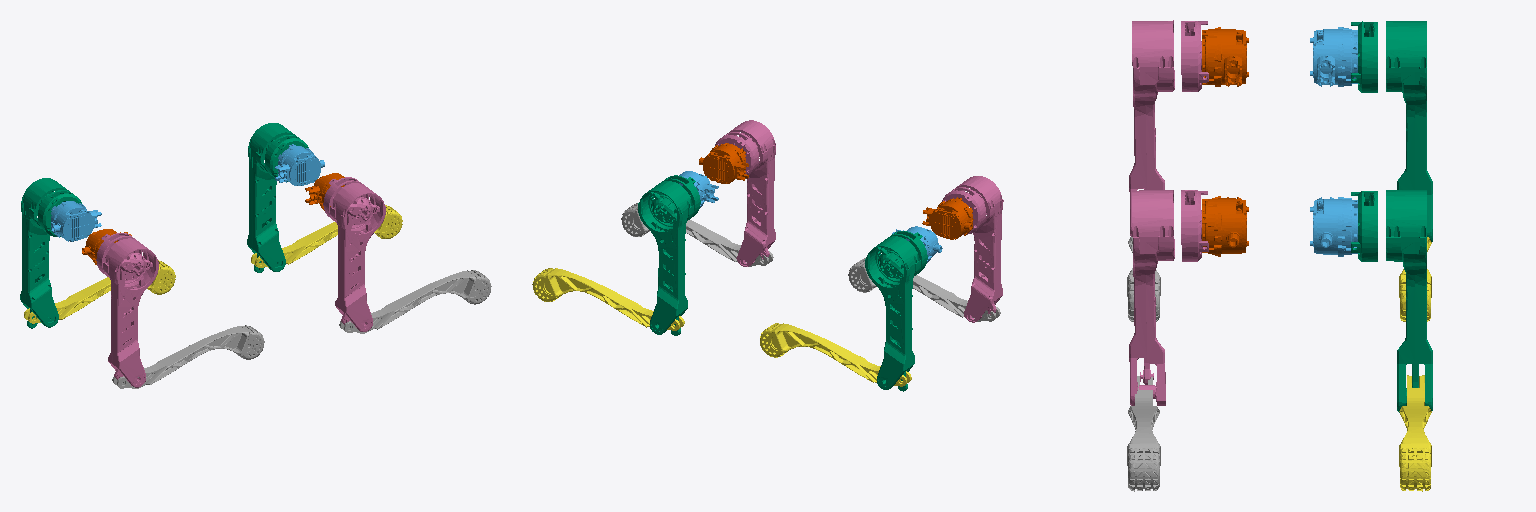
robot.urdf — bpx:
<?xml version='1.0' encoding='utf-8'?>
<robot name="bpx">
  <link name="torso">
    <inertial>
      <origin xyz="0.0008028 -4.574E-6 -0.004214" rpy="0 0 0" />
      <mass value="3.309" />
      <inertia ixx="0.005766" ixy="-1.985E-7" ixz="-7.242E-5" iyy="0.01547" iyz="-8.15E-8" izz="0.01647" />
    </inertial>
    <visual>
      <origin xyz="0 0 0" rpy="0 0 0" />
      <geometry>
        <mesh filename="../meshes/bpx_body.obj" />
      </geometry>
    </visual>
    <collision>
      <origin xyz="0 0 0" rpy="0 0 0"/>
      <geometry>
        <box size="0.36 0.16 0.15"/>
      </geometry>
    </collision>
    <collision>
      <origin xyz="0.285 0 0" rpy="0 0 0"/>
      <geometry>
        <box size="0.01 0.13 0.025"/>
      </geometry>
    </collision>
    <collision>
      <origin xyz="-0.285 0 0" rpy="0 0 0"/>
      <geometry>
        <box size="0.01 0.13 0.025"/>
      </geometry>
    </collision>
  </link>
  <link name="fl_hip_link">
    <inertial>
      <origin xyz="-0.06505 0 0" rpy="0 0 0" />
      <mass value="0.588" />
      <inertia ixx="9.195E-5" ixy="0" ixz="0" iyy="4.998E-5" iyz="0" izz="5.084E-5" />
    </inertial>
    <visual>
      <origin xyz="0 0 0" rpy="0 0 0" />
      <geometry>
        <mesh filename="../meshes/hip.obj" />
      </geometry>
    </visual>
  </link>
  <joint name="fl_hip_roll_joint" type="revolute">
    <origin xyz="0.2432 0.056 0" rpy="0 0 0" />
    <parent link="torso" />
    <child link="fl_hip_link" />
    <axis xyz="1 0 0" />
    <limit lower="-0.8727" upper="0.8727" effort="30" velocity="20" />
  </joint>
  <link name="fl_thigh_link">
    <inertial>
      <origin xyz="-0.006553 -0.02491 -0.06967" rpy="0 0 0" />
      <mass value="1.74" />
      <inertia ixx="0.001874" ixy="4.092E-6" ixz="-6.186E-5" iyy="0.002176" iyz="2.971E-5" izz="0.0003893" />
    </inertial>
    <visual>
      <origin xyz="0 0 0" rpy="0 0 0" />
      <geometry>
        <mesh filename="../meshes/l_thigh.obj" />
      </geometry>
    </visual>
    <collision>
      <origin xyz="0 -0.025 0" rpy="1.5708 0 0"/>
      <geometry>
        <cylinder length="0.08" radius="0.04"/>
      </geometry>
    </collision>
    <collision>
      <origin xyz="-0.02 0 -0.128" rpy="0 0 0"/>
      <geometry>
        <box size="0.04 0.022 0.15"/>
      </geometry>
    </collision>
  </link>
  <joint name="fl_hip_pitch_joint" type="revolute">
    <origin xyz="0 0.1089 0" rpy="0 0 0" />
    <parent link="fl_hip_link" />
    <child link="fl_thigh_link" />
    <axis xyz="0 1 0" />
    <limit lower="-0.7854" upper="2.6066" effort="30" velocity="20" />
  </joint>
  <link name="fl_calf_link">
    <inertial>
      <origin xyz="0.005945 0 -0.1404" rpy="0 0 0" />
      <mass value="0.294" />
      <inertia ixx="0.001489" ixy="0" ixz="0.0001047" iyy="0.001513" iyz="0" izz="6.363E-5" />
    </inertial>
    <visual>
      <origin xyz="0 0 0" rpy="0 0 0" />
      <geometry>
        <mesh filename="../meshes/calf.obj" />
      </geometry>
    </visual>
    <collision>
      <origin xyz="0.015 0 -0.11" rpy="0 -0.1396 0"/>
      <geometry>
        <box size="0.018 0.015 0.18"/>
      </geometry>
    </collision>
    <collision>
      <origin xyz="0.021 0 -0.22" rpy="0 0.1396 0"/>
      <geometry>
        <box size="0.025 0.02 0.05"/>
      </geometry>
    </collision>
  </link>
  <joint name="fl_knee_joint" type="revolute">
    <origin xyz="0 0 -0.23" rpy="0 0 0" />
    <parent link="fl_thigh_link" />
    <child link="fl_calf_link" />
    <axis xyz="0 1 0" />
    <limit lower="-2.7531" upper="-0.5539" effort="30" velocity="20" />
  </joint>
  <link name="fl_toe_link">
    <inertial>
      <origin xyz="0 0 0" rpy="0 0 0" />
      <mass value="0.005" />
      <inertia ixx="0" ixy="0" ixz="0" iyy="0" iyz="0" izz="0" />
    </inertial>
    <collision>
      <origin xyz="0 0 0" rpy="1.5708 0 0" />
      <geometry>
        <cylinder length="0.03" radius="0.027"/>
      </geometry>
    </collision>
  </link>
  <joint name="fl_ankle_joint" type="fixed" dont_collapse="true">
    <origin xyz="0 0 -0.2427" rpy="0 0 0" />
    <parent link="fl_calf_link" />
    <child link="fl_toe_link" />
  </joint>
  <link name="fr_hip_link">
    <inertial>
      <origin xyz="-0.06505 0 0" rpy="0 0 0" />
      <mass value="0.588" />
      <inertia ixx="9.195E-5" ixy="0" ixz="0" iyy="4.998E-5" iyz="0" izz="5.084E-5" />
    </inertial>
    <visual>
      <origin xyz="0 0 0" rpy="3.1416 0 0" />
      <geometry>
        <mesh filename="../meshes/hip.obj" />
      </geometry>
    </visual>
  </link>
  <joint name="fr_hip_roll_joint" type="revolute">
    <origin xyz="0.2432 -0.056 0" rpy="0 0 0" />
    <parent link="torso" />
    <child link="fr_hip_link" />
    <axis xyz="1 0 0" />
    <limit lower="-0.8727" upper="0.8727" effort="30" velocity="20" />
  </joint>
  <link name="fr_thigh_link">
    <inertial>
      <origin xyz="-0.006553 0.02491 -0.06967" rpy="0 0 0" />
      <mass value="1.74" />
      <inertia ixx="0.001874" ixy="-4.092E-6" ixz="-6.186E-5" iyy="0.002176" iyz="-2.971E-5" izz="0.0003893" />
    </inertial>
    <visual>
      <origin xyz="0 0 0" rpy="0 0 0" />
      <geometry>
        <mesh filename="../meshes/r_thigh.obj" />
      </geometry>
    </visual>
    <collision>
      <origin xyz="0 0.025 0" rpy="1.5708 0 0"/>
      <geometry>
        <cylinder length="0.08" radius="0.04"/>
      </geometry>
    </collision>
    <collision>
      <origin xyz="-0.02 0 -0.128" rpy="0 0 0"/>
      <geometry>
        <box size="0.04 0.022 0.15"/>
      </geometry>
    </collision>
  </link>
  <joint name="fr_hip_pitch_joint" type="revolute">
    <origin xyz="0 -0.1089 0" rpy="0 0 0" />
    <parent link="fr_hip_link" />
    <child link="fr_thigh_link" />
    <axis xyz="0 1 0" />
    <limit lower="-0.7854" upper="2.6066" effort="30" velocity="20" />
  </joint>
  <link name="fr_calf_link">
    <inertial>
      <origin xyz="0.005945 0 -0.1404" rpy="0 0 0" />
      <mass value="0.294" />
      <inertia ixx="0.001489" ixy="0" ixz="0.0001047" iyy="0.001513" iyz="0" izz="6.363E-5" />
    </inertial>
    <visual>
      <origin xyz="0 0 0" rpy="0 0 0" />
      <geometry>
        <mesh filename="../meshes/calf.obj" />
      </geometry>
    </visual>
    <collision>
      <origin xyz="0.015 0 -0.11" rpy="0 -0.1396 0"/>
      <geometry>
        <box size="0.018 0.015 0.18"/>
      </geometry>
    </collision>
    <collision>
      <origin xyz="0.021 0 -0.22" rpy="0 0.1396 0"/>
      <geometry>
        <box size="0.025 0.02 0.05"/>
      </geometry>
    </collision>
  </link>
  <joint name="fr_knee_joint" type="revolute">
    <origin xyz="0 0 -0.23" rpy="0 0 0" />
    <parent link="fr_thigh_link" />
    <child link="fr_calf_link" />
    <axis xyz="0 1 0" />
    <limit lower="-2.7531" upper="-0.5539" effort="30" velocity="20" />
  </joint>
  <link name="fr_toe_link">
    <inertial>
      <origin xyz="0 0 0" rpy="0 0 0" />
      <mass value="0.005" />
      <inertia ixx="0" ixy="0" ixz="0" iyy="0" iyz="0" izz="0" />
    </inertial>
    <collision>
      <origin xyz="0 0 0" rpy="1.5708 0 0" />
      <geometry>
        <cylinder length="0.03" radius="0.027"/>
      </geometry>
    </collision>
  </link>
  <joint name="fr_ankle_joint" type="fixed" dont_collapse="true">
    <origin xyz="0 0 -0.2427" rpy="0 0 0" />
    <parent link="fr_calf_link" />
    <child link="fr_toe_link" />
  </joint>
  <link name="hl_hip_link">
    <inertial>
      <origin xyz="0.06505 0 0" rpy="0 0 0" />
      <mass value="0.588" />
      <inertia ixx="9.195E-5" ixy="0" ixz="0" iyy="4.998E-5" iyz="0" izz="5.084E-5" />
    </inertial>
    <visual>
      <origin xyz="0 0 0" rpy="3.1416 0 3.1416" />
      <geometry>
        <mesh filename="../meshes/hip.obj" />
      </geometry>
    </visual>
  </link>
  <joint name="hl_hip_roll_joint" type="revolute">
    <origin xyz="-0.2432 0.056 0" rpy="0 0 0" />
    <parent link="torso" />
    <child link="hl_hip_link" />
    <axis xyz="1 0 0" />
    <limit lower="-0.8727" upper="0.8727" effort="30" velocity="20" />
  </joint>
  <link name="hl_thigh_link">
    <inertial>
      <origin xyz="-0.006553 -0.02491 -0.06967" rpy="0 0 0" />
      <mass value="1.74" />
      <inertia ixx="0.001874" ixy="4.092E-6" ixz="-6.186E-5" iyy="0.002176" iyz="2.971E-5" izz="0.0003893" />
    </inertial>
    <visual>
      <origin xyz="0 0 0" rpy="0 0 0" />
      <geometry>
        <mesh filename="../meshes/l_thigh.obj" />
      </geometry>
    </visual>
    <collision>
      <origin xyz="0 -0.025 0" rpy="1.5708 0 0"/>
      <geometry>
        <cylinder length="0.08" radius="0.04"/>
      </geometry>
    </collision>
    <collision>
      <origin xyz="-0.02 0 -0.128" rpy="0 0 0"/>
      <geometry>
        <box size="0.04 0.022 0.15"/>
      </geometry>
    </collision>
  </link>
  <joint name="hl_hip_pitch_joint" type="revolute">
    <origin xyz="0 0.1089 0" rpy="0 0 0" />
    <parent link="hl_hip_link" />
    <child link="hl_thigh_link" />
    <axis xyz="0 1 0" />
    <limit lower="-0.7854" upper="2.6066" effort="30" velocity="20" />
  </joint>
  <link name="hl_calf_link">
    <inertial>
      <origin xyz="0.005945 0 -0.1404" rpy="0 0 0" />
      <mass value="0.294" />
      <inertia ixx="0.001489" ixy="0" ixz="0.0001047" iyy="0.001513" iyz="0" izz="6.363E-5" />
    </inertial>
    <visual>
      <origin xyz="0 0 0" rpy="0 0 0" />
      <geometry>
        <mesh filename="../meshes/calf.obj" />
      </geometry>
    </visual>
    <collision>
      <origin xyz="0.015 0 -0.11" rpy="0 -0.1396 0"/>
      <geometry>
        <box size="0.018 0.015 0.18"/>
      </geometry>
    </collision>
    <collision>
      <origin xyz="0.021 0 -0.22" rpy="0 0.1396 0"/>
      <geometry>
        <box size="0.025 0.02 0.05"/>
      </geometry>
    </collision>
  </link>
  <joint name="hl_knee_joint" type="revolute">
    <origin xyz="0 0 -0.23" rpy="0 0 0" />
    <parent link="hl_thigh_link" />
    <child link="hl_calf_link" />
    <axis xyz="0 1 0" />
    <limit lower="-2.7531" upper="-0.5539" effort="30" velocity="20" />
  </joint>
  <link name="hl_toe_link">
    <inertial>
      <origin xyz="0 0 0" rpy="0 0 0" />
      <mass value="0.005" />
      <inertia ixx="0" ixy="0" ixz="0" iyy="0" iyz="0" izz="0" />
    </inertial>
    <collision>
      <origin xyz="0 0 0" rpy="1.5708 0 0" />
      <geometry>
        <cylinder length="0.03" radius="0.027"/>
      </geometry>
    </collision>
  </link>
  <joint name="hl_ankle_joint" type="fixed" dont_collapse="true">
    <origin xyz="0 0 -0.2427" rpy="0 0 0" />
    <parent link="hl_calf_link" />
    <child link="hl_toe_link" />
  </joint>
  <link name="hr_hip_link">
    <inertial>
      <origin xyz="0.06505 0 0" rpy="0 0 0" />
      <mass value="0.588" />
      <inertia ixx="9.195E-5" ixy="0" ixz="0" iyy="4.998E-5" iyz="0" izz="5.084E-5" />
    </inertial>
    <visual>
      <origin xyz="0 0 0" rpy="0 0 3.1416" />
      <geometry>
        <mesh filename="../meshes/hip.obj" />
      </geometry>
    </visual>
  </link>
  <joint name="hr_hip_roll_joint" type="revolute">
    <origin xyz="-0.2432 -0.056 0" rpy="0 0 0" />
    <parent link="torso" />
    <child link="hr_hip_link" />
    <axis xyz="1 0 0" />
    <limit lower="-0.8727" upper="0.8727" effort="30" velocity="20" />
  </joint>
  <link name="hr_thigh_link">
    <inertial>
      <origin xyz="-0.006553 0.02491 -0.06967" rpy="0 0 0" />
      <mass value="1.74" />
      <inertia ixx="0.001874" ixy="-4.092E-6" ixz="-6.186E-5" iyy="0.002176" iyz="-2.971E-5" izz="0.0003893" />
    </inertial>
    <visual>
      <origin xyz="0 0 0" rpy="0 0 0" />
      <geometry>
        <mesh filename="../meshes/r_thigh.obj" />
      </geometry>
    </visual>
    <collision>
      <origin xyz="0 0.025 0" rpy="1.5708 0 0"/>
      <geometry>
        <cylinder length="0.08" radius="0.04"/>
      </geometry>
    </collision>
    <collision>
      <origin xyz="-0.02 0 -0.128" rpy="0 0 0"/>
      <geometry>
        <box size="0.04 0.022 0.15"/>
      </geometry>
    </collision>
  </link>
  <joint name="hr_hip_pitch_joint" type="revolute">
    <origin xyz="0 -0.1089 0" rpy="0 0 0" />
    <parent link="hr_hip_link" />
    <child link="hr_thigh_link" />
    <axis xyz="0 1 0" />
    <limit lower="-0.7854" upper="2.6066" effort="30" velocity="20" />
  </joint>
  <link name="hr_calf_link">
    <inertial>
      <origin xyz="0.005945 0 -0.1404" rpy="0 0 0" />
      <mass value="0.294" />
      <inertia ixx="0.001489" ixy="0" ixz="0.0001047" iyy="0.001513" iyz="0" izz="6.363E-5" />
    </inertial>
    <visual>
      <origin xyz="0 0 0" rpy="0 0 0" />
      <geometry>
        <mesh filename="../meshes/calf.obj" />
      </geometry>
    </visual>
    <collision>
      <origin xyz="0.015 0 -0.11" rpy="0 -0.1396 0"/>
      <geometry>
        <box size="0.018 0.015 0.18"/>
      </geometry>
    </collision>
    <collision>
      <origin xyz="0.021 0 -0.22" rpy="0 0.1396 0"/>
      <geometry>
        <box size="0.025 0.02 0.05"/>
      </geometry>
    </collision>
  </link>
  <joint name="hr_knee_joint" type="revolute">
    <origin xyz="0 0 -0.23" rpy="0 0 0" />
    <parent link="hr_thigh_link" />
    <child link="hr_calf_link" />
    <axis xyz="0 1 0" />
    <limit lower="-2.7531" upper="-0.5539" effort="30" velocity="20" />
  </joint>
  <link name="hr_toe_link">
    <inertial>
      <origin xyz="0 0 0" rpy="0 0 0" />
      <mass value="0.005" />
      <inertia ixx="0" ixy="0" ixz="0" iyy="0" iyz="0" izz="0" />
    </inertial>
    <collision>
      <origin xyz="0 0 0" rpy="1.5708 0 0" />
      <geometry>
        <cylinder length="0.03" radius="0.027"/>
      </geometry>
    </collision>
  </link>
  <joint name="hr_ankle_joint" type="fixed" dont_collapse="true">
    <origin xyz="0 0 -0.2427" rpy="0 0 0" />
    <parent link="hr_calf_link" />
    <child link="hr_toe_link" />
  </joint>
</robot>

--- Render facts (derived) ---
The picture shows the robot from 3 angles, left to right: view 1: azimuth 30°, elevation 25°; view 2: azimuth 150°, elevation 25°; view 3: azimuth 270°, elevation 25°; orthographic projection.
Robot: bpx — 17 links, 16 joints (12 revolute, 4 fixed); root link torso; default pose: all joints at 0 but 4 set to mid-range because 0 is outside their limits (fl_knee_joint = -1.65, fr_knee_joint = -1.65, hl_knee_joint = -1.65, hr_knee_joint = -1.65).
Links seen in each view (by area): view 1: fr_thigh_link, hr_thigh_link, hl_thigh_link, fl_thigh_link, hr_calf_link, fr_calf_link, hl_calf_link, fl_calf_link, hl_hip_link, fl_hip_link, fr_hip_link; view 2: fl_thigh_link, hl_thigh_link, hr_thigh_link, fr_thigh_link, hl_calf_link, fl_calf_link, hr_calf_link, fr_calf_link, hr_hip_link, fr_hip_link, fl_hip_link; view 3: fr_thigh_link, fl_thigh_link, hl_thigh_link, hr_thigh_link, fl_calf_link, fr_calf_link, hl_hip_link, fl_hip_link, hr_hip_link, fr_hip_link, hr_calf_link, hl_calf_link.
Link boxes in pixels (x1,y1,x2,y2): fr_thigh_link: (323, 177, 385, 331); hr_thigh_link: (96, 233, 158, 387); hl_thigh_link: (20, 178, 81, 328); fl_thigh_link: (247, 123, 308, 272); hr_calf_link: (112, 325, 264, 388); fr_calf_link: (339, 270, 491, 333); hl_calf_link: (24, 260, 175, 323); fl_calf_link: (251, 205, 402, 267); hl_hip_link: (51, 201, 101, 241); fl_hip_link: (275, 144, 324, 185); fr_hip_link: (305, 173, 344, 210); fl_thigh_link: (638, 175, 700, 335); hl_thigh_link: (865, 231, 927, 391); hr_thigh_link: (942, 176, 1003, 322); fr_thigh_link: (715, 120, 775, 266); hl_calf_link: (760, 323, 911, 386); fl_calf_link: (532, 268, 684, 330); hr_calf_link: (848, 258, 1000, 321); fr_calf_link: (621, 203, 773, 266); hr_hip_link: (922, 197, 973, 239); fr_hip_link: (699, 143, 748, 183); fl_hip_link: (679, 171, 718, 207); fr_thigh_link: (1129, 190, 1208, 405); fl_thigh_link: (1351, 190, 1432, 412); hl_thigh_link: (1351, 21, 1432, 241); hr_thigh_link: (1129, 20, 1208, 236); fl_calf_link: (1399, 375, 1431, 491); fr_calf_link: (1127, 376, 1160, 491); hl_hip_link: (1310, 27, 1357, 86); fl_hip_link: (1310, 197, 1357, 256); hr_hip_link: (1202, 27, 1248, 86); fr_hip_link: (1202, 196, 1248, 256); hr_calf_link: (1127, 237, 1160, 321); hl_calf_link: (1399, 237, 1431, 321).
Size in the robot's own frame: 0.8043 by 0.3711 by 0.2947 metres.
Meshes: 5 distinct files referenced, 12 mesh visuals loaded (4 OBJ); not drawn: 1 (reference not matched to a file when rendering).
